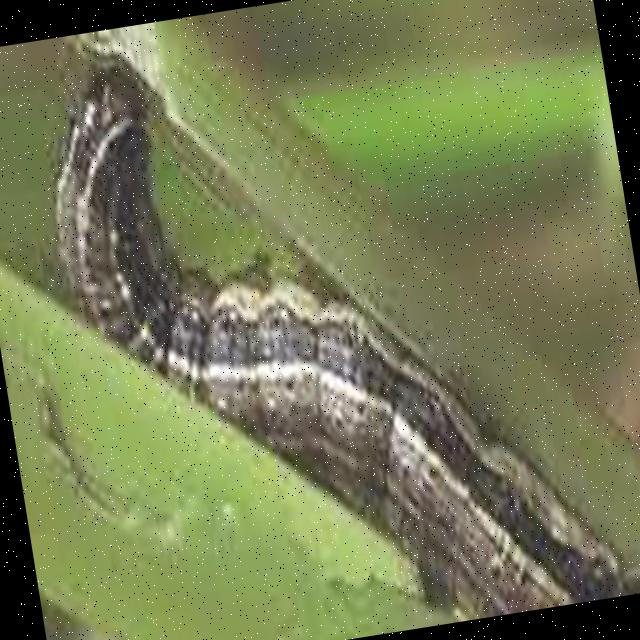worm: (26, 3, 633, 640)
